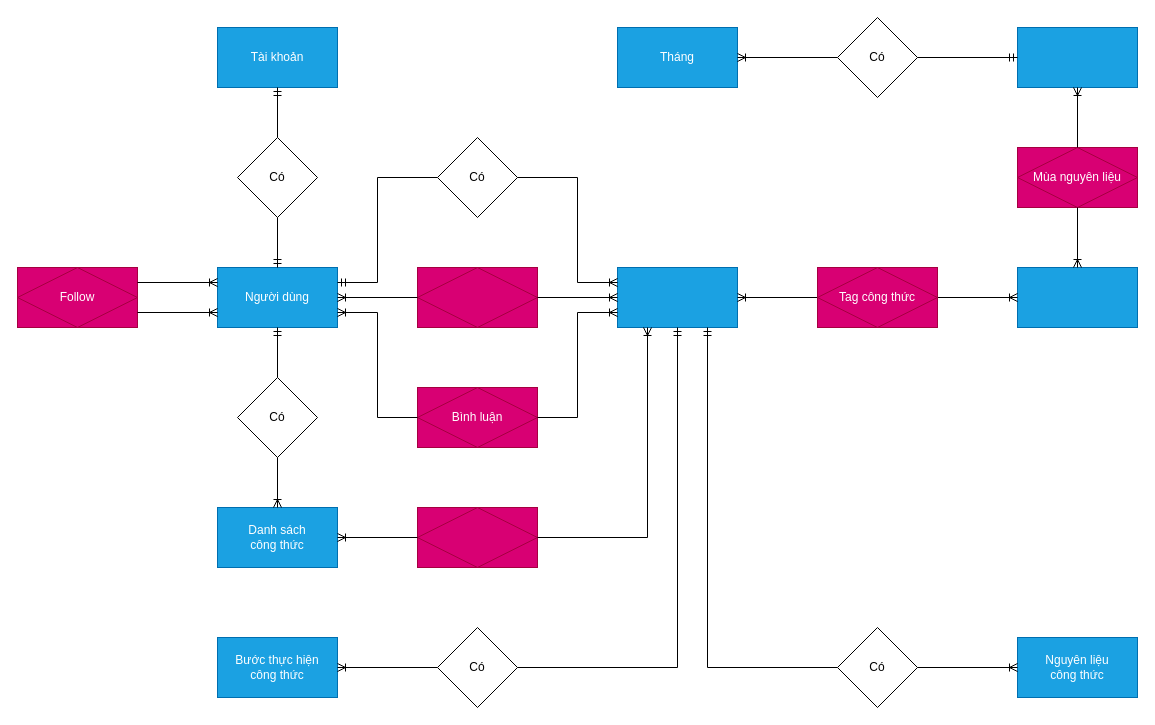
Image size: 1155x725. Some labels were removed from this diagram. The shapes that lost their labels are listed below. From the top down, each one's box as (x1, y1, x2, y2) in pixels, then its label:
(1016, 26, 1138, 88): Mùa
(416, 266, 538, 328): Yêu thích
(616, 266, 738, 328): Công thức
(1016, 266, 1138, 328): Tag nguyên liệu
(416, 506, 538, 568): Chi tiết danh sách
